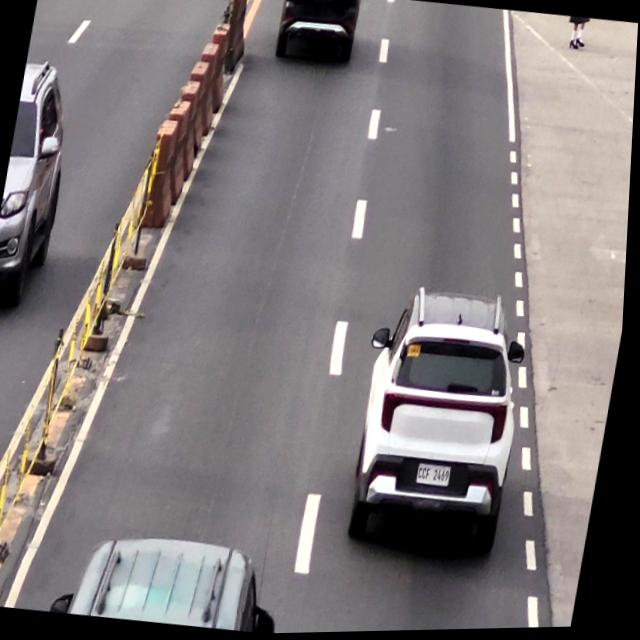Car: (353, 292, 535, 535), (70, 523, 279, 637), (271, 0, 363, 66)
